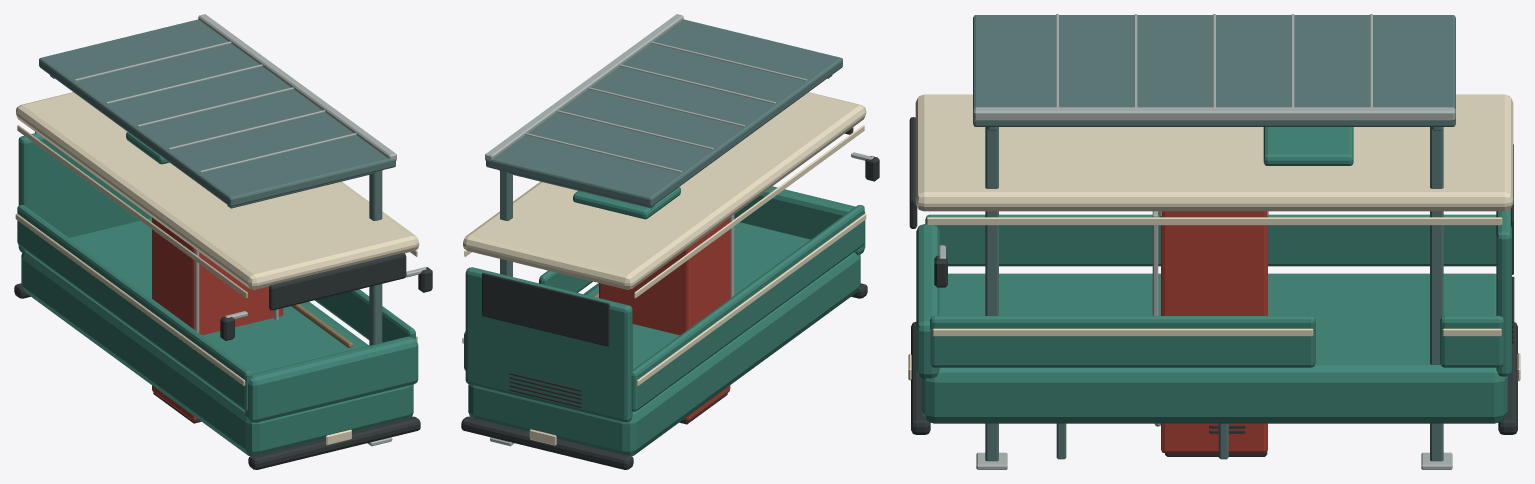
Rendered from yomachi-street.glb.
The picture shows the model from 3 angles, left to right: view 1: azimuth 30°, elevation 25°; view 2: azimuth 150°, elevation 25°; view 3: azimuth 270°, elevation 25°; orthographic projection. The views are drawn at different scales.
Visible parts, largest first — view 1: bus-shell Bus deep green enamel, shelter-frame Standing-seam patinated zinc, bus-shell Ivory route service livery, bus-shell Charcoal rubber and vents, vending-warm Hot vending persimmon powder coat, shelter-frame Satin anodized aluminum, shelter-frame Outdoor oiled cypress; view 2: bus-shell Bus deep green enamel, shelter-frame Standing-seam patinated zinc, bus-shell Ivory route service livery, bus-shell Charcoal rubber and vents, vending-warm Hot vending persimmon powder coat, shelter-frame Satin anodized aluminum; view 3: bus-shell Bus deep green enamel, bus-shell Ivory route service livery, shelter-frame Standing-seam patinated zinc, vending-warm Hot vending persimmon powder coat, shelter-frame Satin anodized aluminum, bus-shell Charcoal rubber and vents, vending-warm Satin anodized aluminum.
Part boxes in pixels (left/top/right/bottom): bus-shell Bus deep green enamel: left=17, top=132, right=418, bottom=455; shelter-frame Standing-seam patinated zinc: left=39, top=19, right=395, bottom=345; bus-shell Ivory route service livery: left=15, top=92, right=419, bottom=445; bus-shell Charcoal rubber and vents: left=14, top=132, right=432, bottom=469; vending-warm Hot vending persimmon powder coat: left=152, top=217, right=283, bottom=421; shelter-frame Satin anodized aluminum: left=74, top=14, right=396, bottom=446; shelter-frame Outdoor oiled cypress: left=291, top=304, right=352, bottom=348; bus-shell Bus deep green enamel: left=464, top=186, right=865, bottom=455; shelter-frame Standing-seam patinated zinc: left=486, top=19, right=842, bottom=276; bus-shell Ivory route service livery: left=462, top=92, right=866, bottom=445; bus-shell Charcoal rubber and vents: left=461, top=127, right=879, bottom=469; vending-warm Hot vending persimmon powder coat: left=599, top=217, right=730, bottom=421; shelter-frame Satin anodized aluminum: left=485, top=14, right=807, bottom=446; bus-shell Bus deep green enamel: left=916, top=127, right=1511, bottom=423; bus-shell Ivory route service livery: left=908, top=94, right=1520, bottom=380; shelter-frame Standing-seam patinated zinc: left=973, top=15, right=1455, bottom=461; vending-warm Hot vending persimmon powder coat: left=1161, top=211, right=1267, bottom=453; shelter-frame Satin anodized aluminum: left=973, top=14, right=1455, bottom=469; bus-shell Charcoal rubber and vents: left=909, top=117, right=1517, bottom=434; vending-warm Satin anodized aluminum: left=1152, top=211, right=1268, bottom=426.
Bounding box in the file's own units: 2.32 × 3.13 × 4.68.
